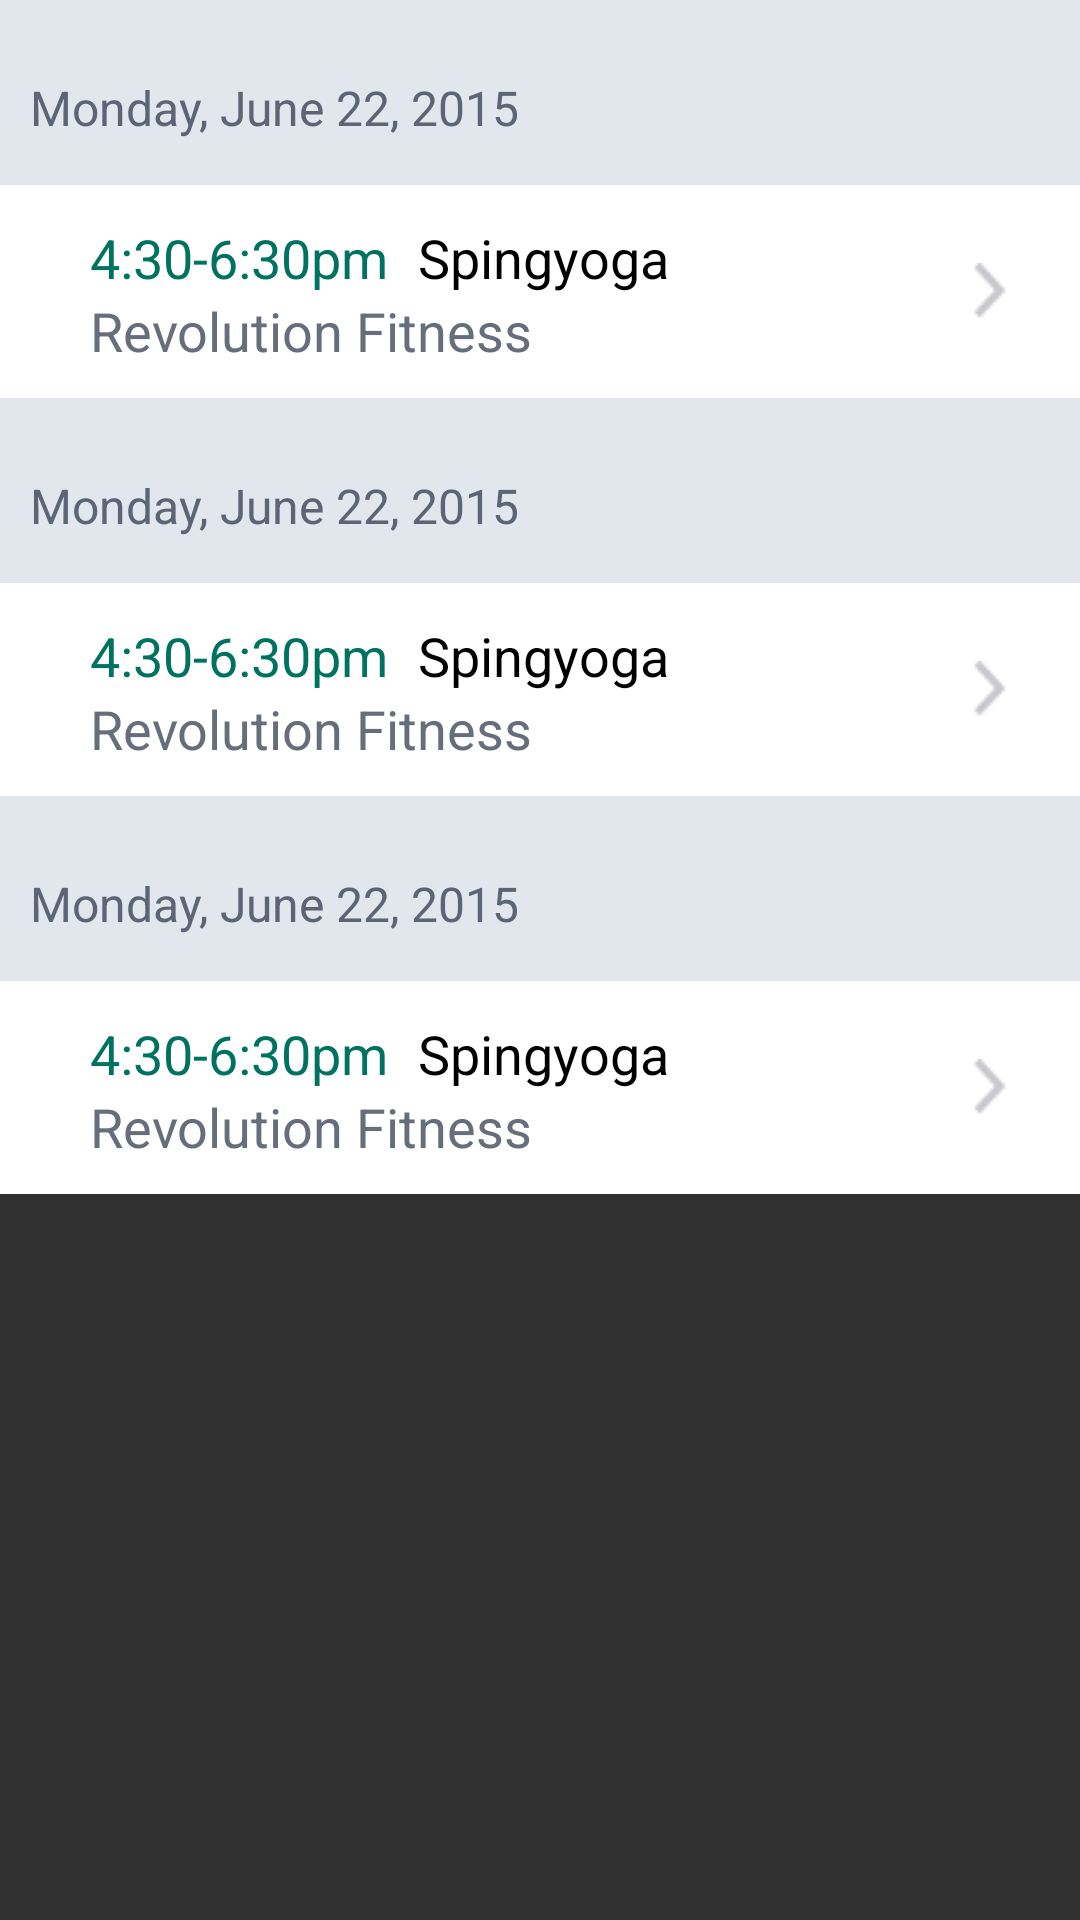

Icons on this 1080px×1920px Android screen, each with the point to tap as (x=x, y=y):
arrow: (x=990, y=290), (x=990, y=688), (x=990, y=1086)
